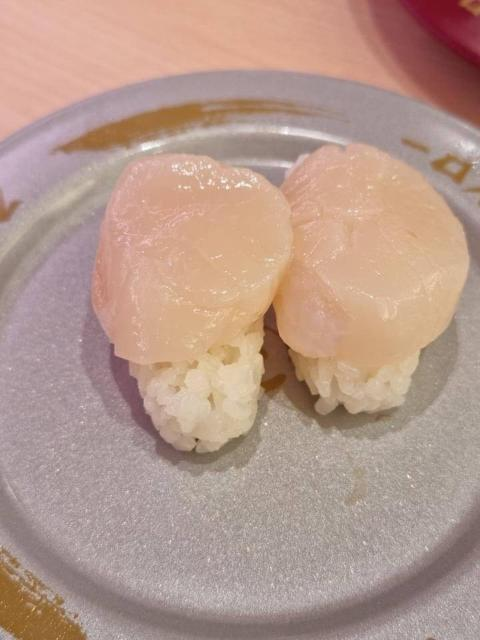janred: (380, 10, 480, 101)
janwhite: (0, 87, 446, 640)
